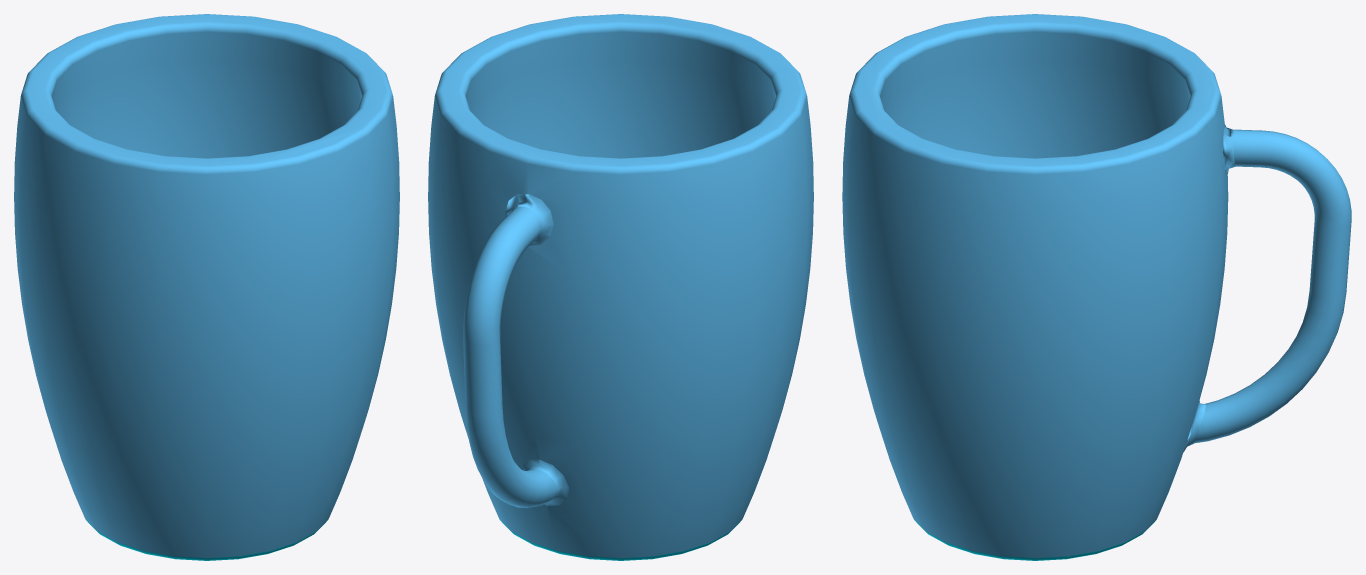
The picture shows the model from 3 angles, left to right: view 1: azimuth 30°, elevation 25°; view 2: azimuth 150°, elevation 25°; view 3: azimuth 270°, elevation 25°; orthographic projection.
Visible parts, largest first — view 1: mesh1_mesh1-geometry, mesh1_mesh1-geometry_2; view 2: mesh1_mesh1-geometry, mesh1_mesh1-geometry_2; view 3: mesh1_mesh1-geometry, mesh1_mesh1-geometry_2.
Boxes of the visible parts, x1,y1,x2,y2 form: mesh1_mesh1-geometry: [14, 14, 399, 557]; mesh1_mesh1-geometry_2: [85, 519, 328, 560]; mesh1_mesh1-geometry: [428, 14, 813, 557]; mesh1_mesh1-geometry_2: [499, 519, 742, 560]; mesh1_mesh1-geometry: [842, 14, 1351, 557]; mesh1_mesh1-geometry_2: [914, 519, 1156, 560].
Size of the model in its own units: 0.4888 by 0.5875 by 0.645.
